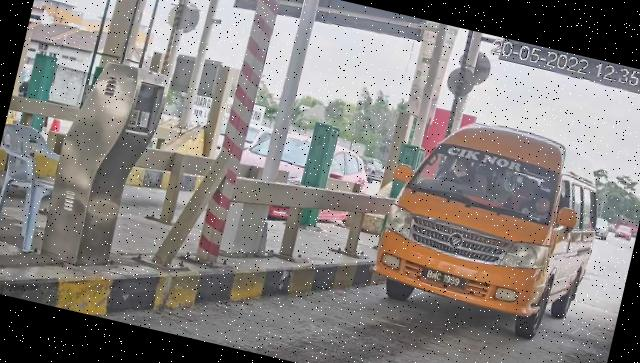License_Plate: (420, 266, 470, 292)
van: (366, 106, 614, 351)
